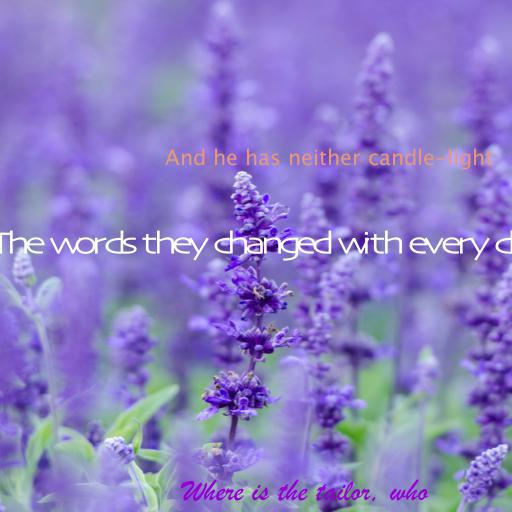Brush Script MT: (182, 479, 428, 502)
Lucida Grande: (165, 148, 493, 170)
Skia: (0, 230, 512, 261)
